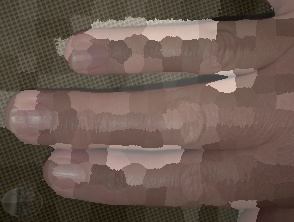Nail_psoriasis: (40, 145, 96, 201), (7, 99, 58, 138)
